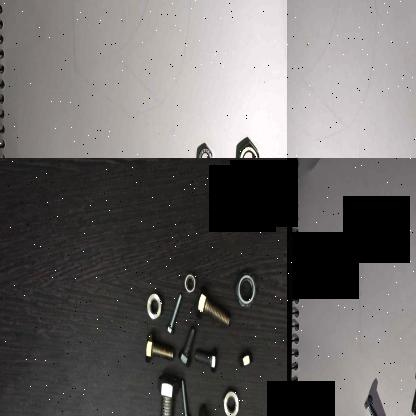Bolts: (195, 286, 230, 328), (144, 332, 178, 364), (158, 371, 178, 416), (360, 387, 388, 416), (177, 326, 196, 368), (192, 346, 218, 372), (178, 376, 193, 416), (407, 366, 416, 416)
NUTS: (234, 270, 258, 310), (221, 384, 240, 416), (234, 137, 262, 158), (145, 294, 163, 324), (193, 140, 215, 158), (238, 346, 252, 372), (184, 272, 196, 296), (198, 404, 214, 416)
